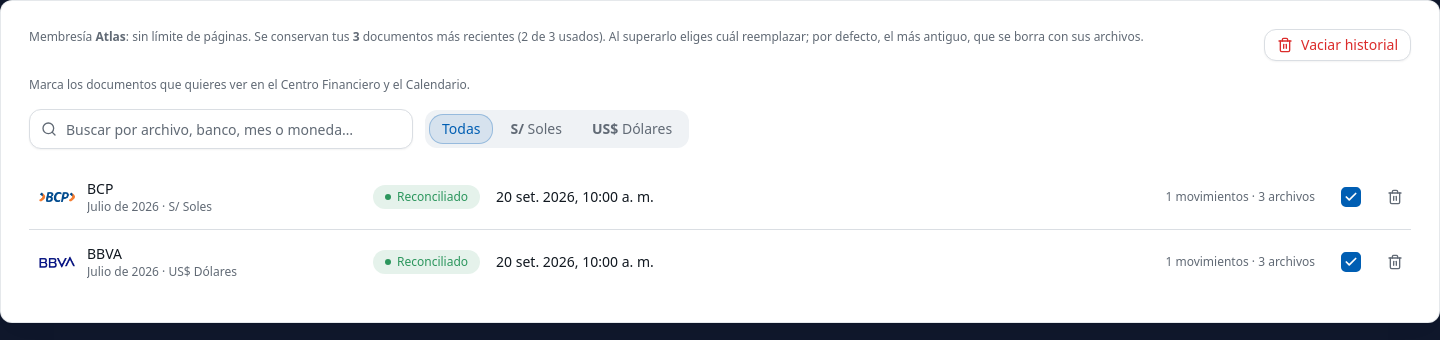
Test: JobHistory: filtro de moneda › muestra solo los documentos de la moneda elegida
This screenshot has width=1440, height=340.
Expected: the text "BCP" is shown, top-left (87, 179), bottom-right (113, 198)
Expected: the text "BBVA" is shown, top-left (87, 244), bottom-right (122, 263)
Click the radio button labelled "US$ Dólares" at (632, 129), box top-left (579, 114), bottom-right (685, 144)
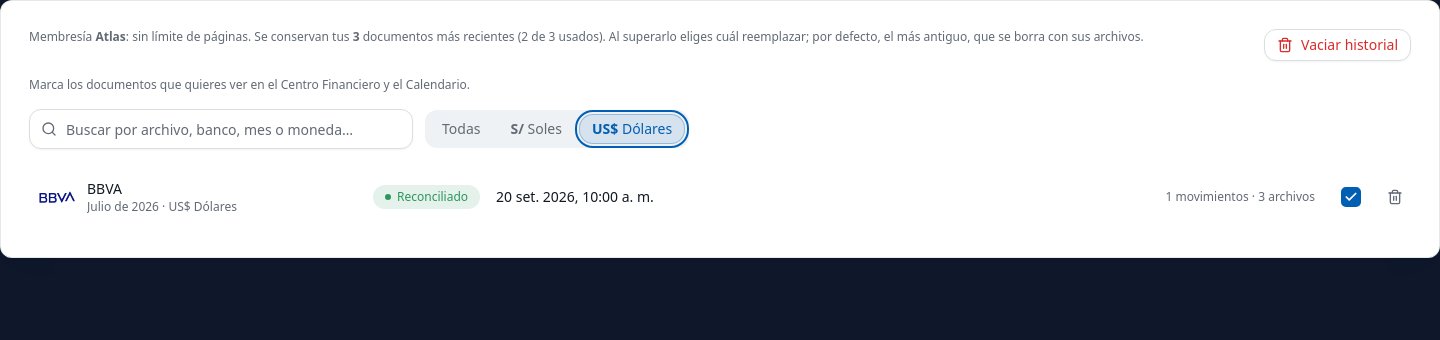
Expected: the text "BBVA" is shown, top-left (87, 179), bottom-right (122, 198)
Expected: the link "BCP" is gone
Click the radio button labelled "Todas" at (461, 129), box top-left (429, 114), bottom-right (494, 144)
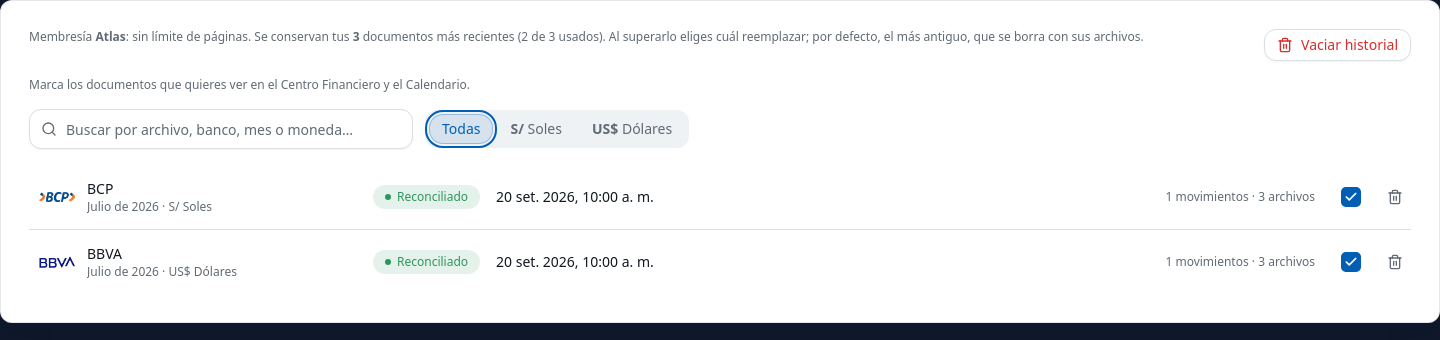
Expected: the text "BCP" is shown, top-left (87, 179), bottom-right (113, 198)
